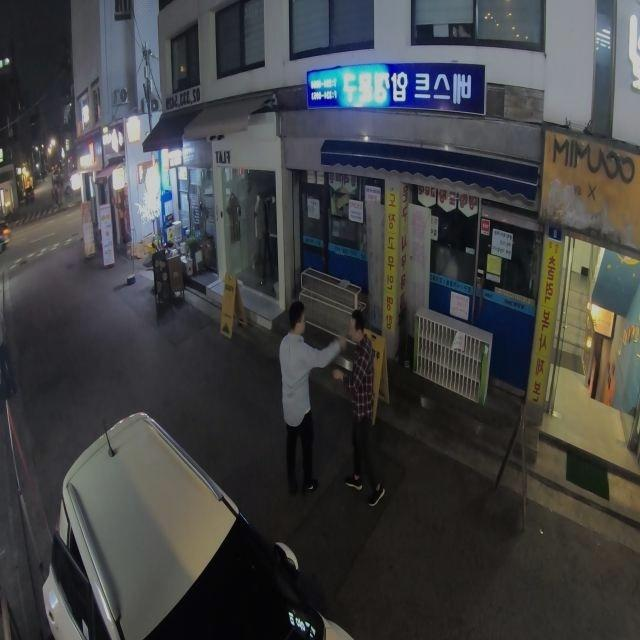fight: (274, 300, 348, 496), (330, 308, 386, 507)
